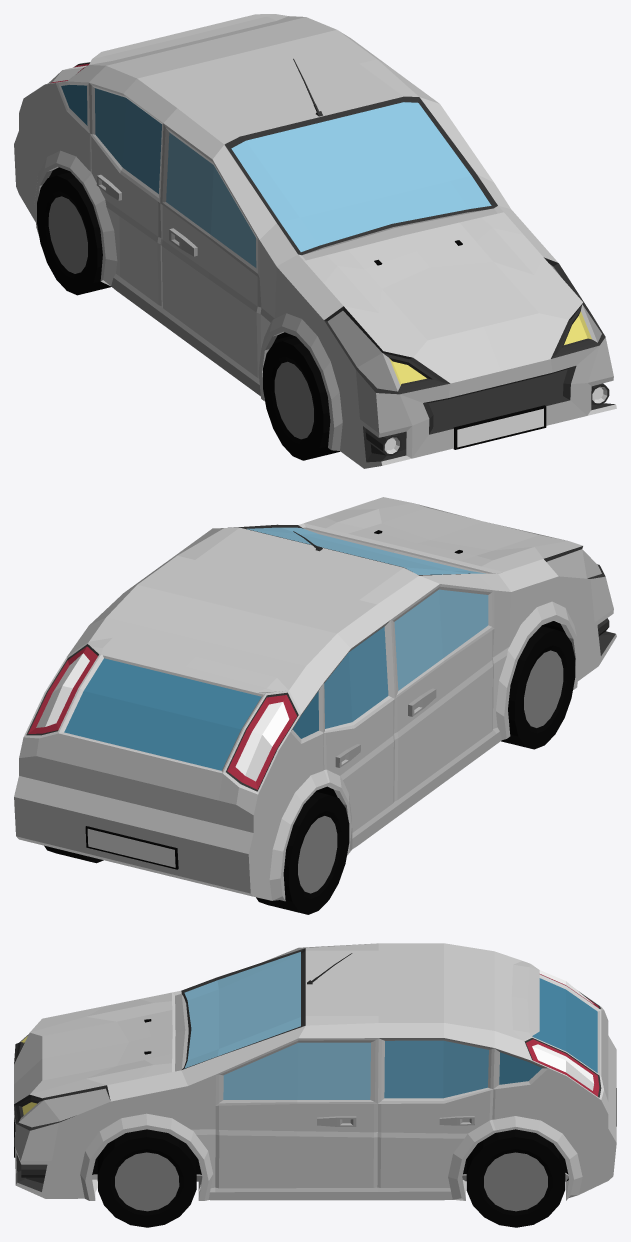
Rendered from SportsCarLowPoly_6.fbx.
3 views of the same model, one above another, from view 1: azimuth 30°, elevation 25°; view 2: azimuth 150°, elevation 25°; view 3: azimuth 270°, elevation 25° (orthographic). The views are drawn at different scales.
Parts seen in each view (by area): view 1: Cube, Cylinder.001, Cylinder.002, Cube.004, Cylinder; view 2: Cube, Cylinder.002, Cylinder.001, Cube.006; view 3: Cube, Cylinder.001, Cylinder.002, Cube.001.
Boxes of the visible parts, x1=… form: Cube: x1=14, y1=14, x2=616, y2=468; Cylinder.001: x1=263, y1=337, x2=339, y2=460; Cylinder.002: x1=37, y1=172, x2=111, y2=295; Cube.004: x1=453, y1=405, x2=546, y2=449; Cylinder: x1=365, y1=383, x2=609, y2=455; Cube: x1=14, y1=497, x2=616, y2=901; Cylinder.002: x1=44, y1=791, x2=349, y2=914; Cylinder.001: x1=501, y1=626, x2=575, y2=749; Cube.006: x1=85, y1=826, x2=178, y2=869; Cube: x1=14, y1=943, x2=616, y2=1200; Cylinder.001: x1=97, y1=1129, x2=196, y2=1227; Cylinder.002: x1=466, y1=1129, x2=565, y2=1227; Cube.001: x1=317, y1=1116, x2=356, y2=1126.
Size of the model in its own units: 172 by 179 by 436.
Materials: 1 (1 with a texture image).
